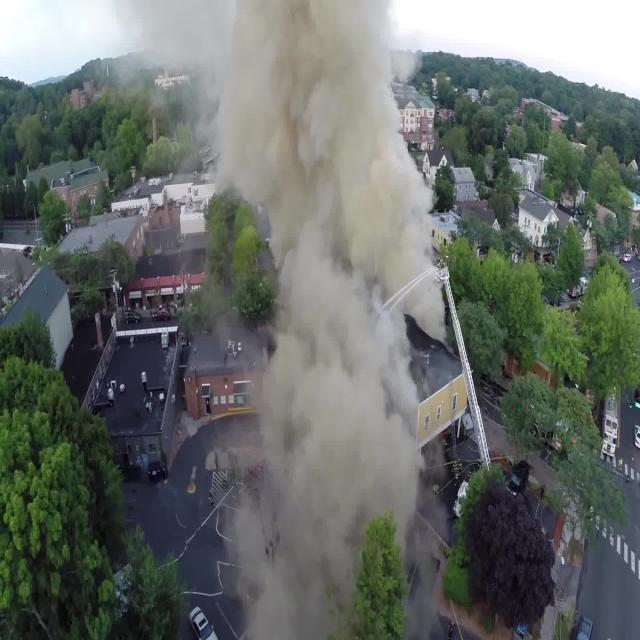Smoke: (218, 0, 441, 638)
